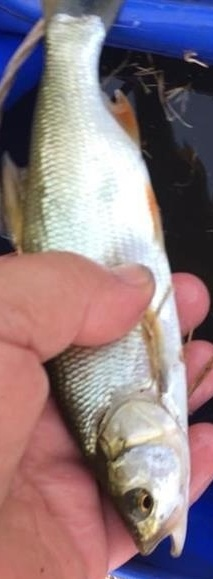Aspius aspius: (20, 1, 193, 559)
